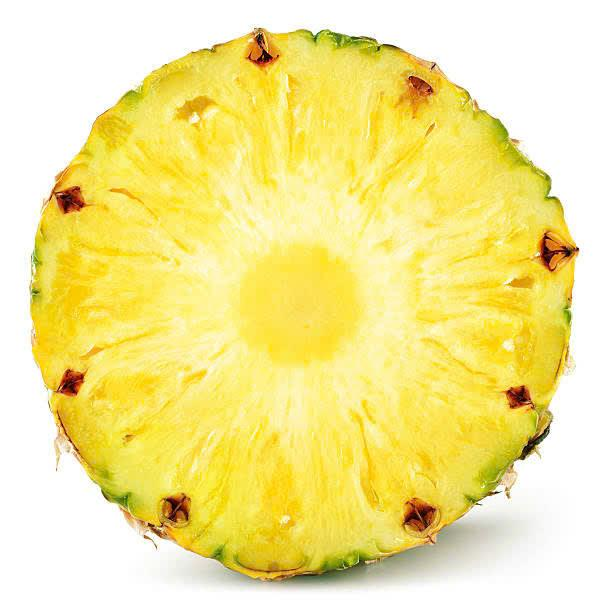pineapple: (16, 22, 593, 590)
